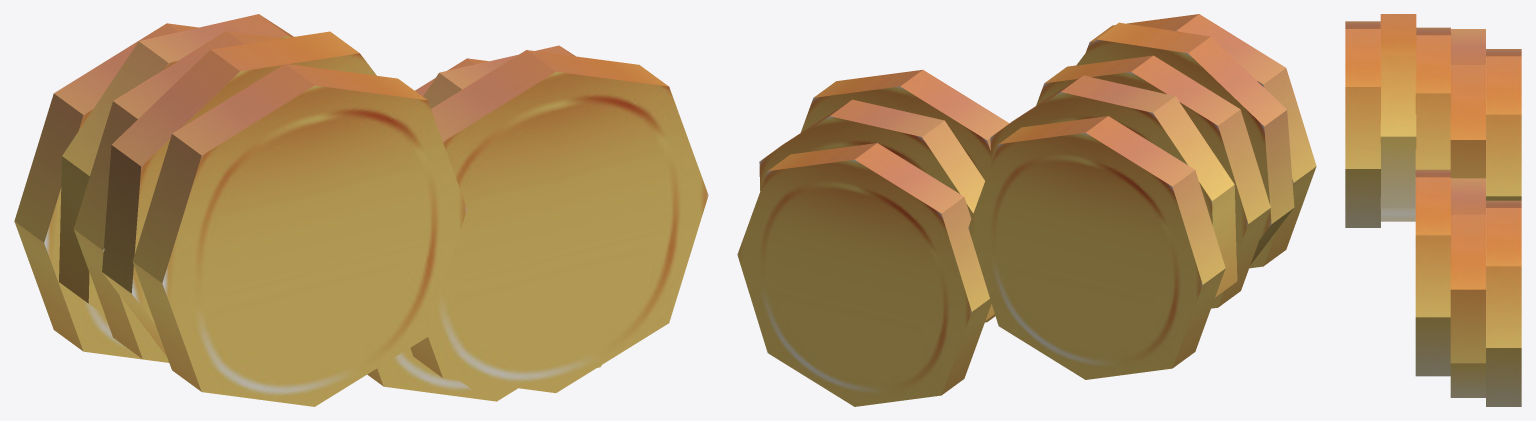
File: coin.gltf
3 views of the same model, side by side, from view 1: azimuth 30°, elevation 25°; view 2: azimuth 150°, elevation 25°; view 3: azimuth 270°, elevation 25° (orthographic). The views are drawn at different scales.
Visible parts, largest first — view 1: Cube.004, Cube.007, Cube.003, Cube, Cube.001, Cube.002, Cube.005, Cube.006; view 2: Cube, Cube.005, Cube.003, Cube.001, Cube.002, Cube.006, Cube.007, Cube.004; view 3: Cube.006, Cube.007, Cube.003, Cube.004, Cube.005, Cube, Cube.001, Cube.002.
Boxes of the visible parts, box(x1,y1,x2,y2) form: Cube.004: box(132, 63, 466, 406); Cube.007: box(410, 50, 708, 392); Cube.003: box(102, 31, 376, 356); Cube: box(14, 23, 198, 362); Cube.001: box(59, 14, 293, 313); Cube.002: box(74, 31, 281, 362); Cube.005: box(367, 58, 517, 401); Cube.006: box(409, 45, 601, 394); Cube: box(968, 116, 1225, 379); Cube.005: box(737, 143, 991, 406); Cube.003: box(1076, 22, 1294, 264); Cube.001: box(990, 75, 1237, 297); Cube.002: box(1036, 55, 1271, 308); Cube.006: box(759, 99, 994, 320); Cube.007: box(800, 69, 1009, 322); Cube.004: box(1085, 14, 1316, 268); Cube.006: box(1450, 178, 1485, 397); Cube.007: box(1415, 169, 1450, 376); Cube.003: box(1380, 14, 1416, 221); Cube.004: box(1345, 21, 1380, 227); Cube.005: box(1486, 200, 1521, 406); Cube: box(1486, 49, 1521, 200); Cube.001: box(1450, 29, 1485, 178); Cube.002: box(1415, 27, 1450, 169).
Size of the model in its own units: 1.99 by 1.5 by 0.8417.
1 material, 1 textured.
